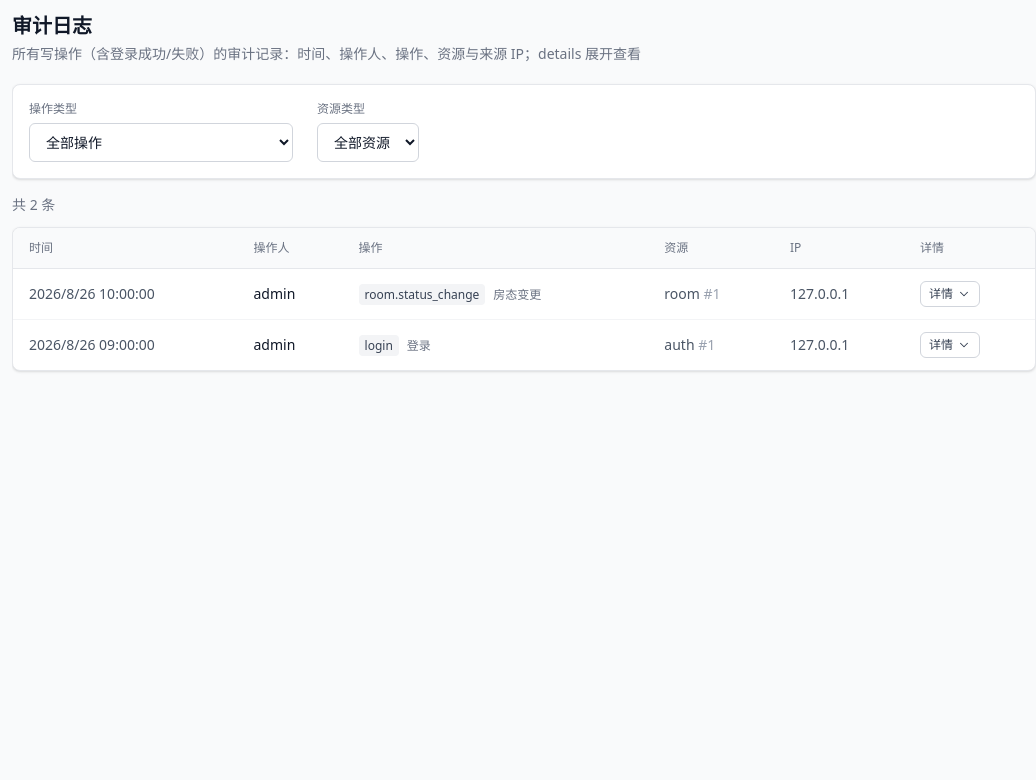
Test: AuditLogsView › details 展开显示格式化 JSON，收起后隐藏（不整块塞表格）
Expected: the text "room.status_change" is shown, [359,284,485,305]
Expected: the text "\"occupancy_status\"" is not shown
Click the button "详情" in the row of "2026/8/26 10:00:00": (950, 294) [920,281,980,307]
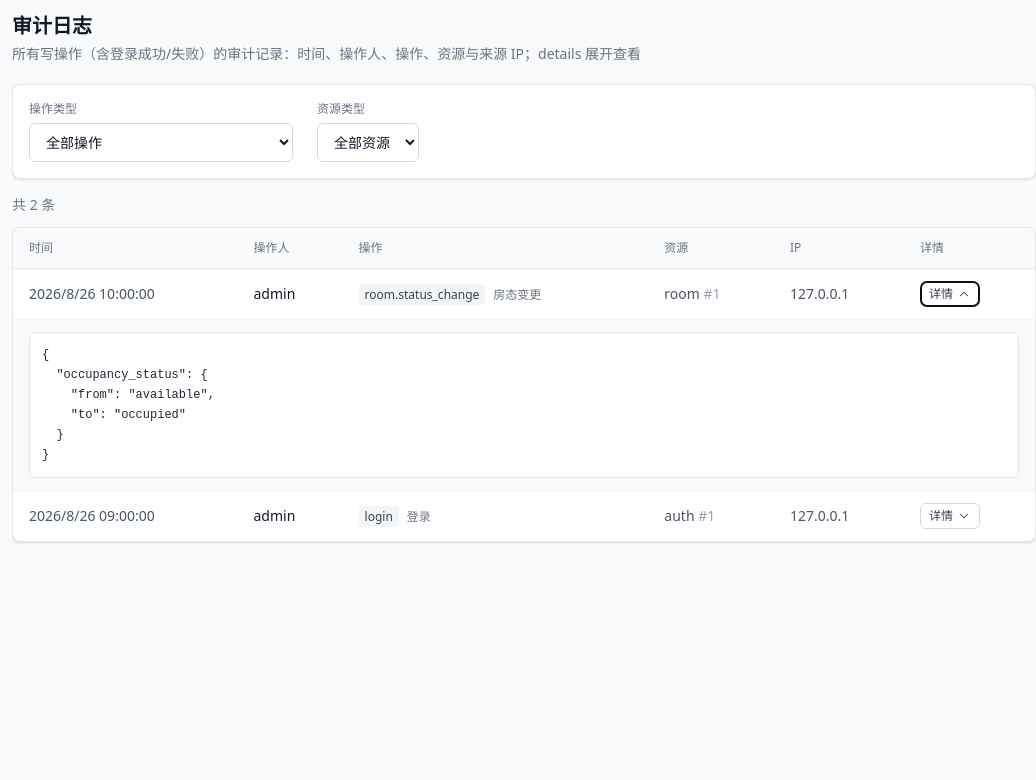
Click the button "详情" in the row of "2026/8/26 10:00:00": (950, 294) [920,281,980,307]
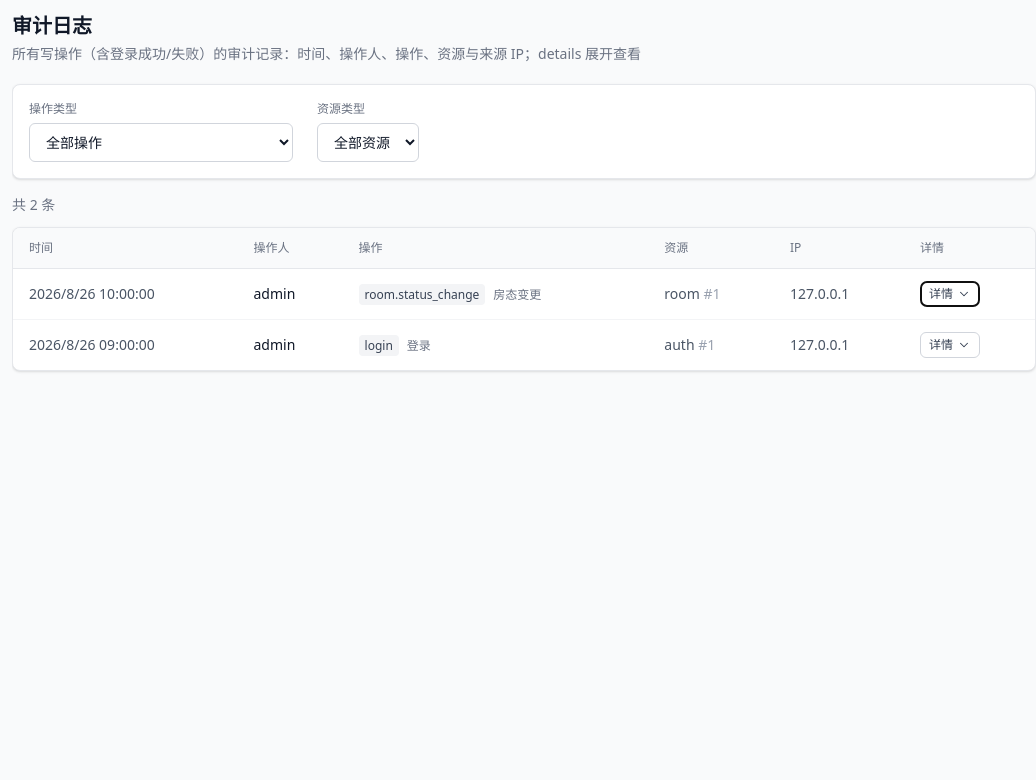
Expected: the text "\"occupancy_status\"" is gone
